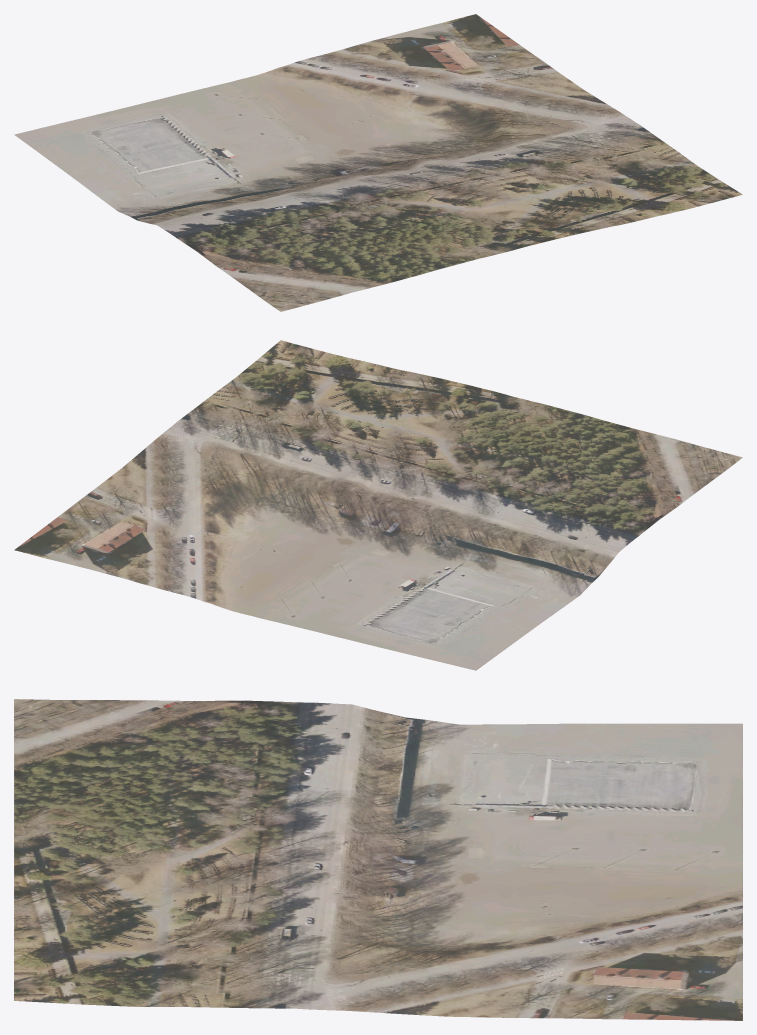
File: CM_Terrain_24488615_6820613.fbx
3 renders of one model, top to bottom at view 1: azimuth 30°, elevation 25°; view 2: azimuth 150°, elevation 25°; view 3: azimuth 270°, elevation 25°, orthographic. The views are drawn at different scales.
Visible parts, largest first — view 1: CM_Terrain_24488615_6820613_LOD0; view 2: CM_Terrain_24488615_6820613_LOD0; view 3: CM_Terrain_24488615_6820613_LOD0.
Part boxes in pixels (left/top/right/bottom): CM_Terrain_24488615_6820613_LOD0: left=14, top=14, right=742, bottom=311; CM_Terrain_24488615_6820613_LOD0: left=14, top=340, right=742, bottom=670; CM_Terrain_24488615_6820613_LOD0: left=14, top=699, right=742, bottom=1020.
Size of what is drawn, in the model's own units: 205 by 10.45 by 205.
